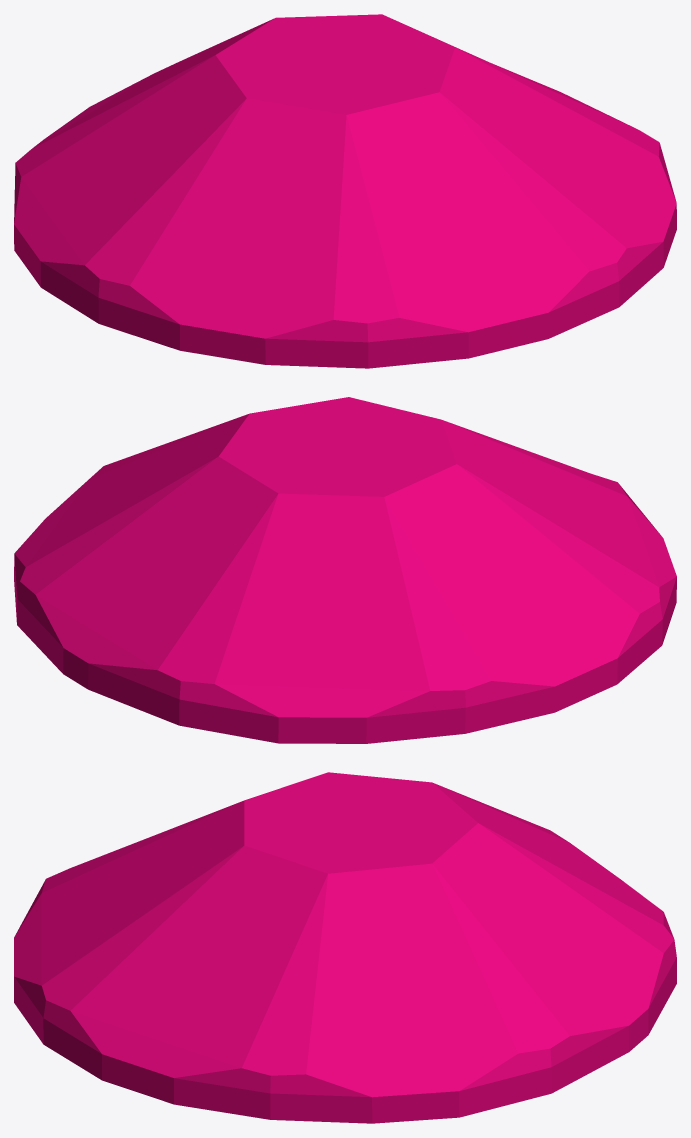
The model's file is gemFixed 1.fbx.
The picture shows the model from 3 angles, top to bottom: view 1: azimuth 30°, elevation 25°; view 2: azimuth 150°, elevation 25°; view 3: azimuth 270°, elevation 25°; orthographic projection.
Visible parts, largest first — view 1: gemstone; view 2: gemstone; view 3: gemstone.
Boxes of the visible parts, x1=… form: gemstone: x1=14, y1=14, x2=676, y2=368; gemstone: x1=14, y1=397, x2=676, y2=743; gemstone: x1=14, y1=772, x2=676, y2=1123.
Bounding box in the file's own units: 1.81 × 0.4827 × 1.81.
